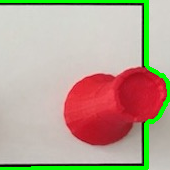Red Castle: (59, 65, 168, 147)
